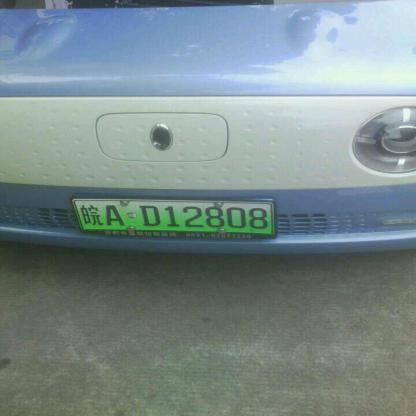lp: (74, 198, 274, 234)
